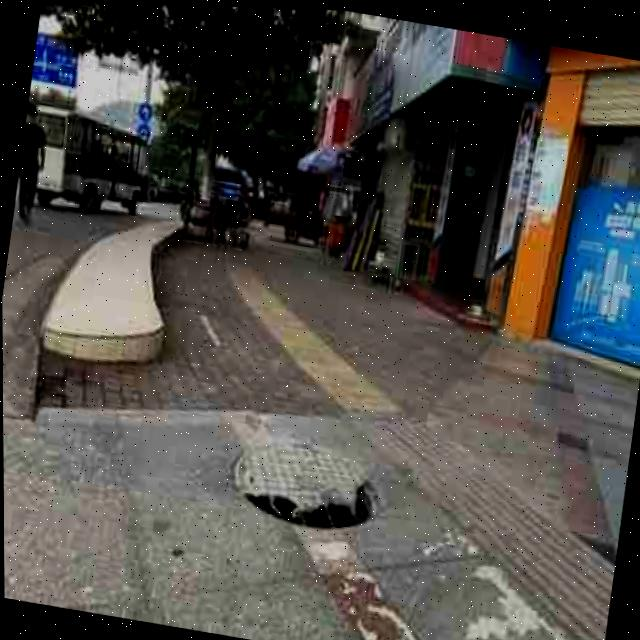manhole: (218, 420, 389, 539)
